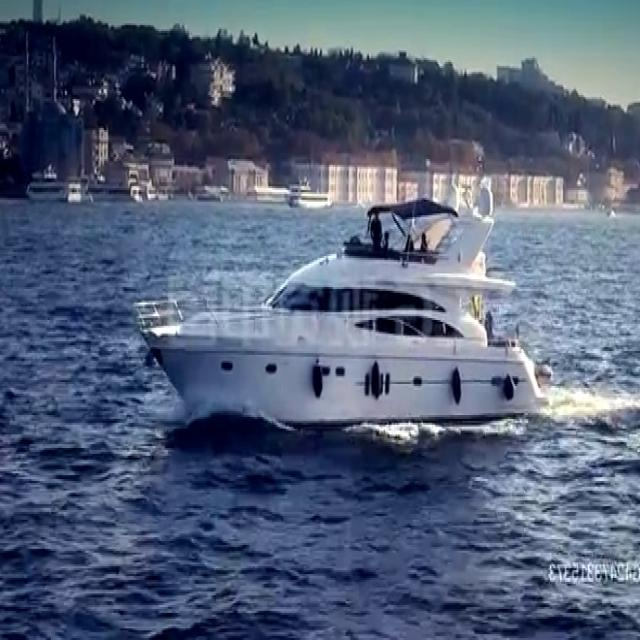houseboat: (146, 182, 541, 436)
